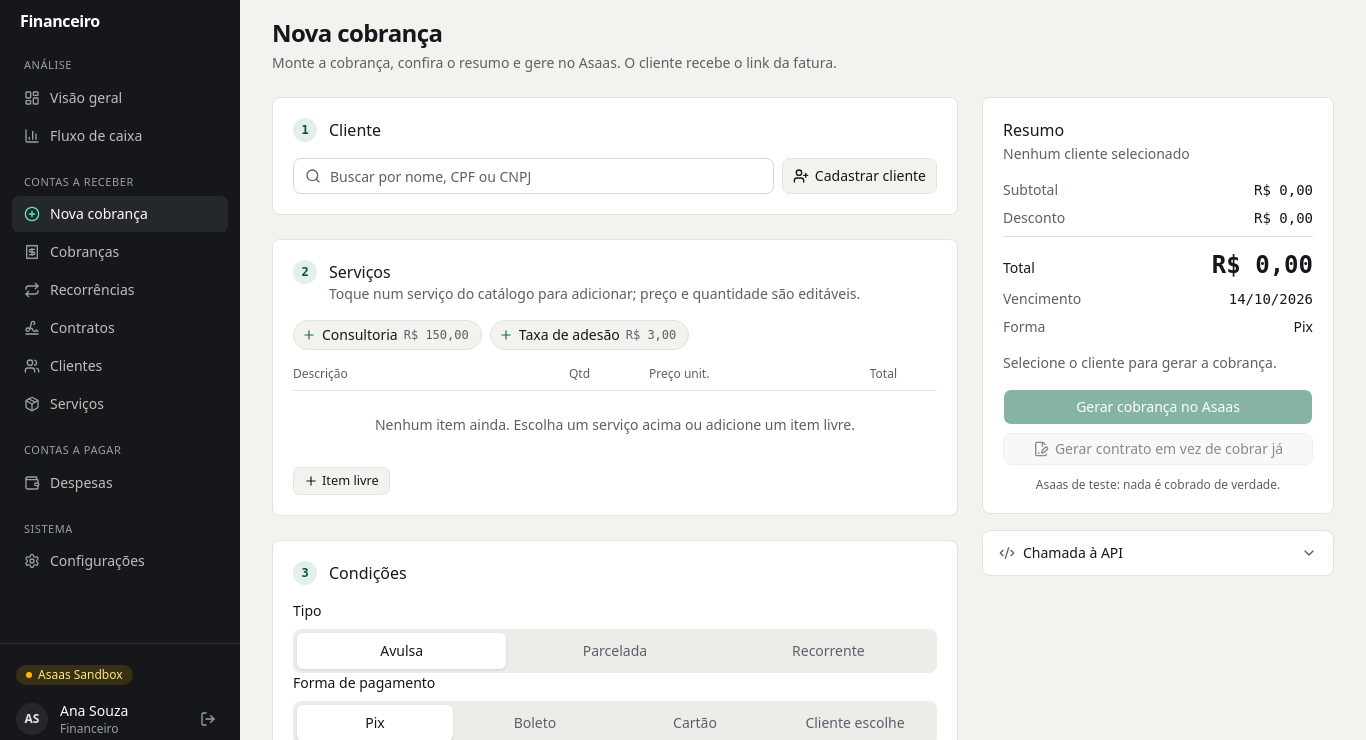
it: [COB-01][COB-02][COB-12] Nova cobrança › [COB-01.3][COB-01.5] padrões das Configurações; erro de plano aparece no resumo e bloqueia o botão
Click the dropdown named "Buscar cliente" at (533, 176), box [293,158,774,194]
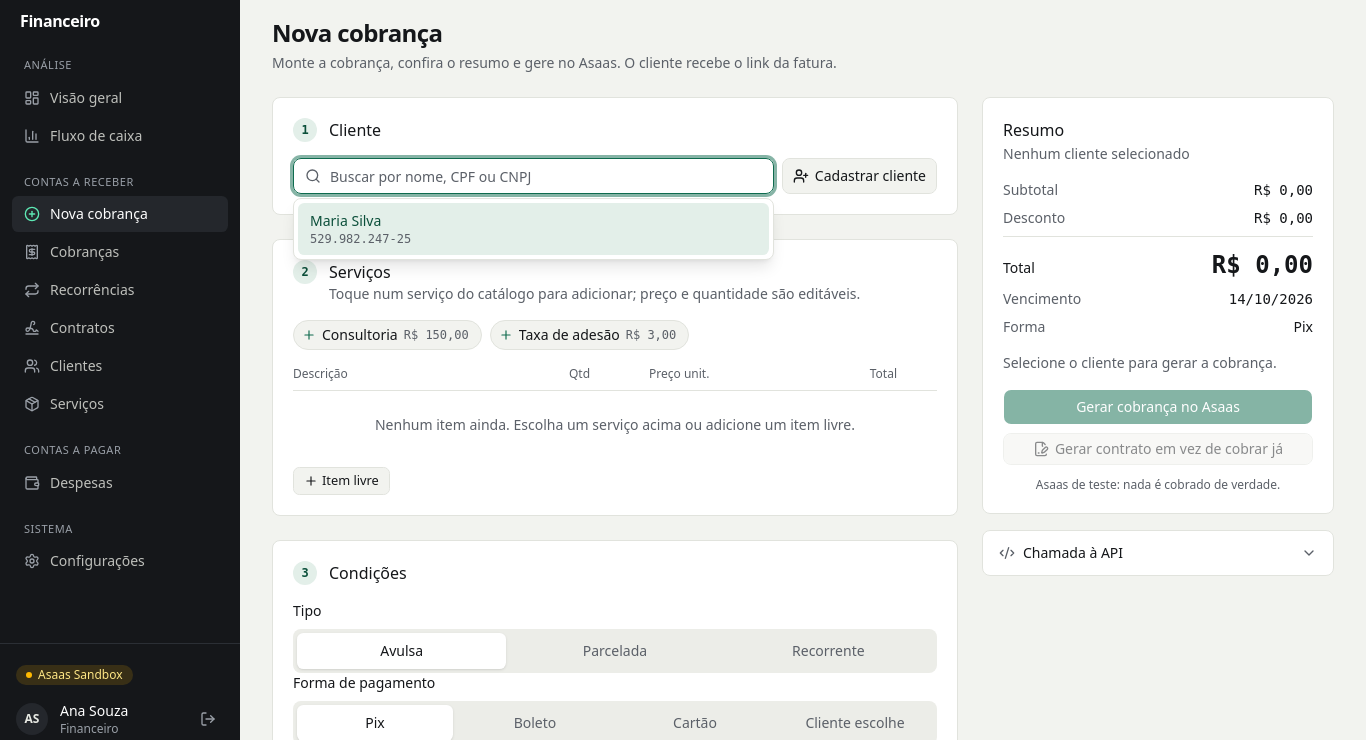
Click the option "Maria Silva 529.982.247-25" at (346, 220), box [298,203,769,255]
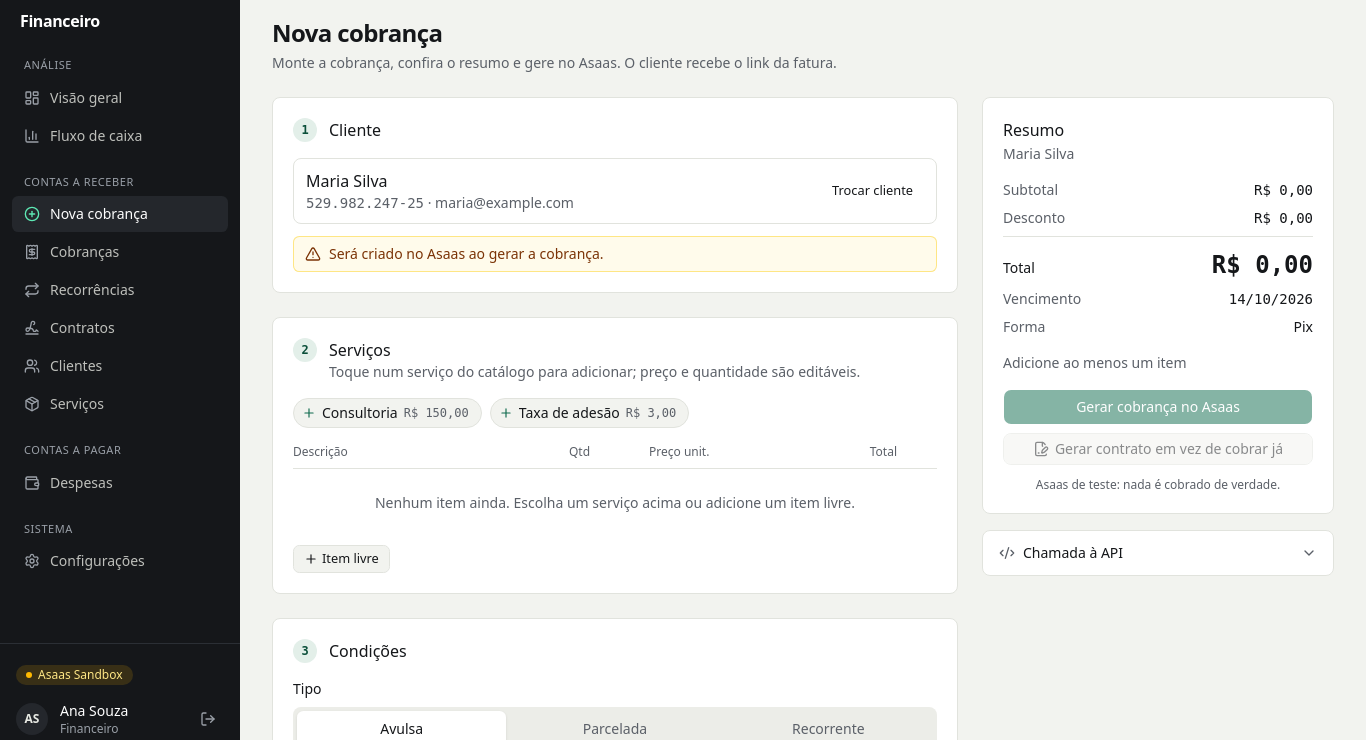
Check: the text "Será criado no Asaas ao gerar a cobrança." is shown, box [293,236,937,272]
Click the button "Taxa de adesão R$ 3,00" at (590, 413), box [490,398,689,428]
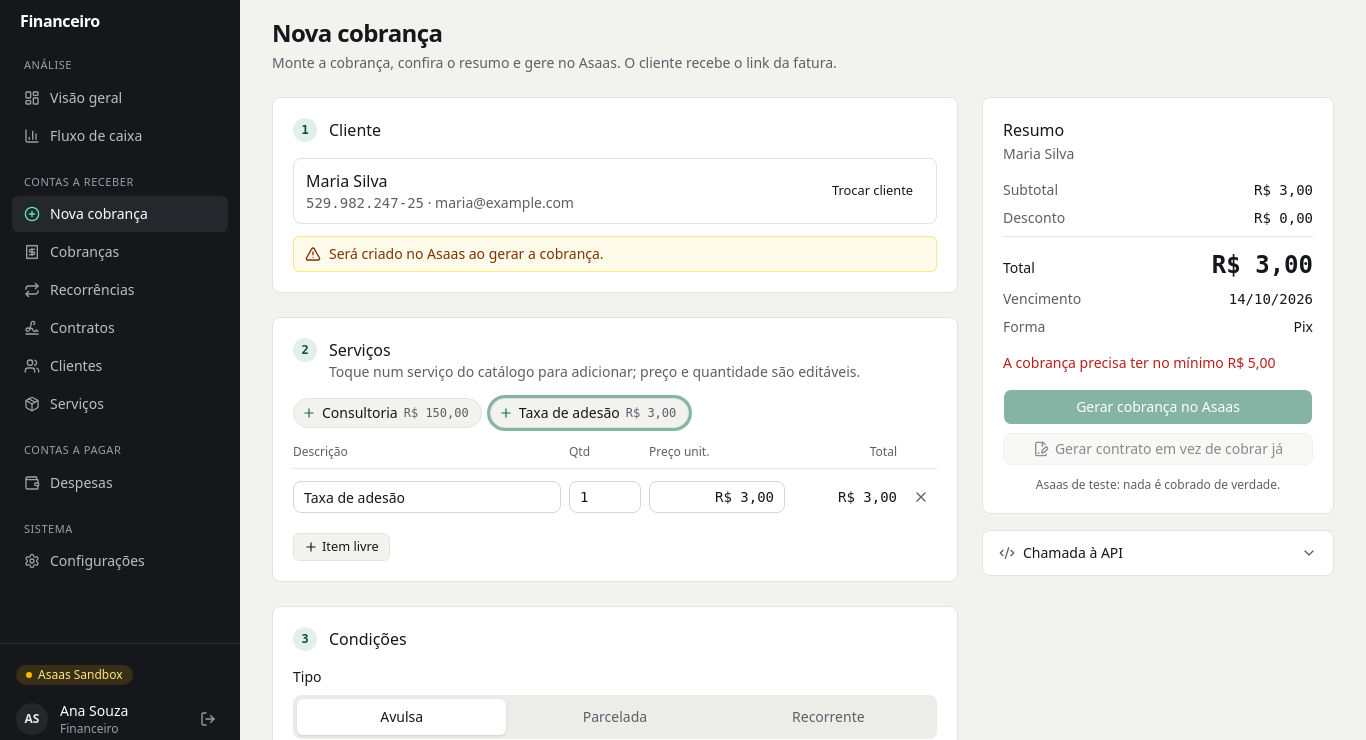
Check: the button "Gerar cobrança no Asaas" is disabled, box [1003,389,1313,425]
Check: the text "A cobrança precisa ter no mínimo R$ 5,00" is shown, box [1003,353,1313,373]
Click the button "Consultoria R$ 150,00" at (387, 413), box [293,398,482,428]
(page scrolled)
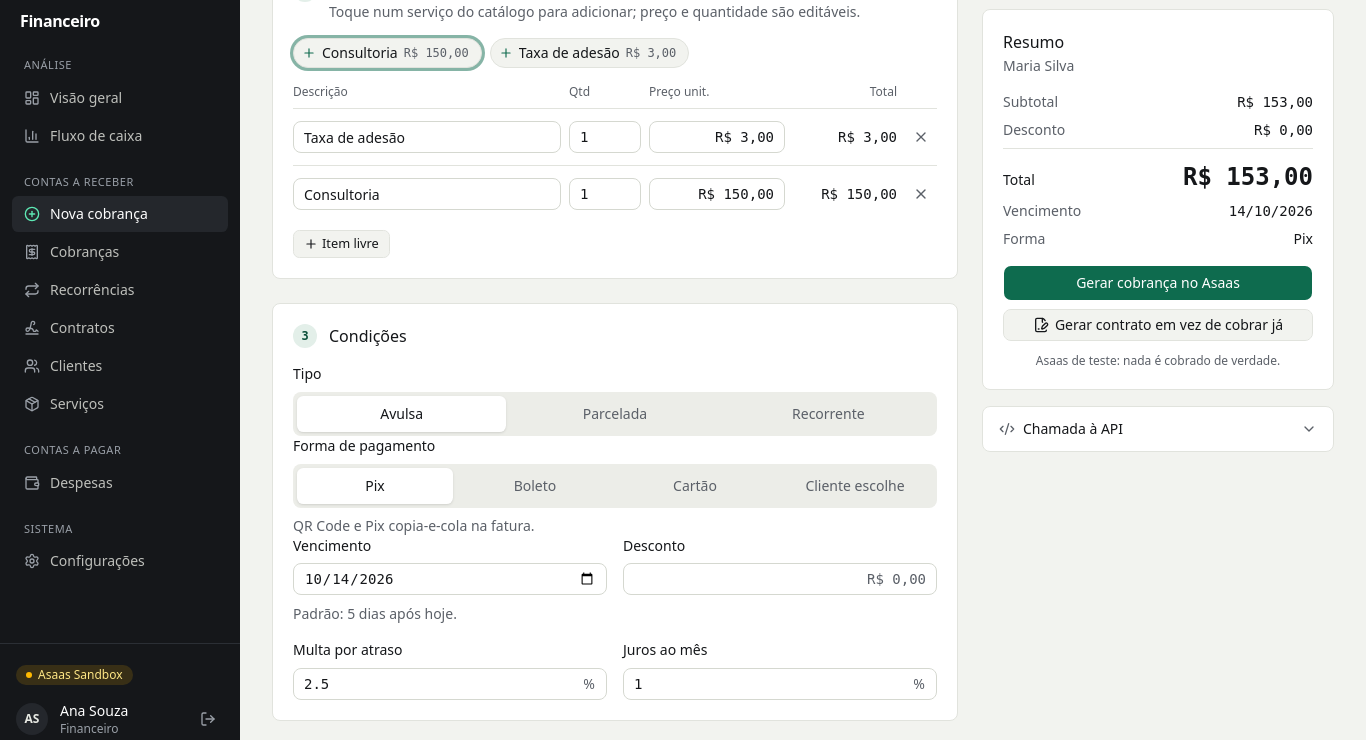
Check: the button "Gerar cobrança no Asaas" is enabled, box [1003,265,1313,301]
Type "99999" into the field labelled "Desconto" at (780, 579), box [623,563,937,595]
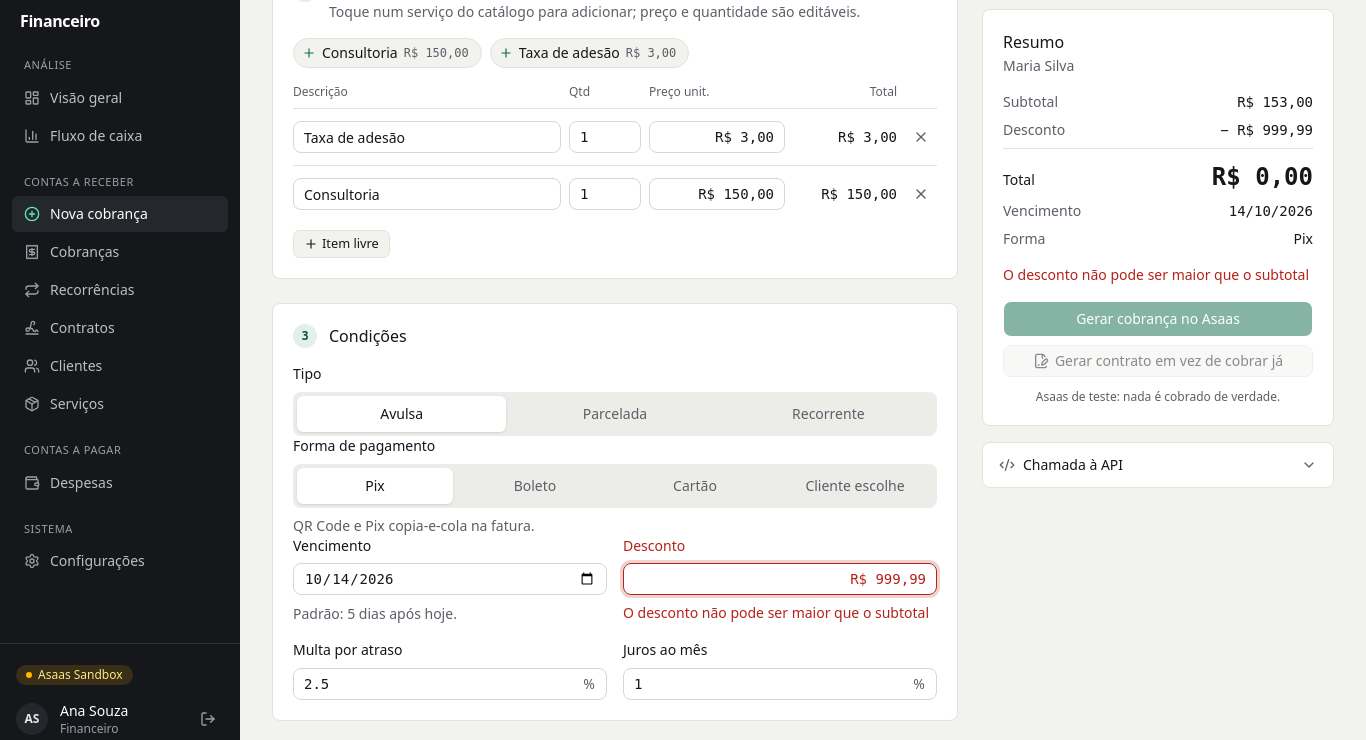
Check: the text "O desconto não pode ser maior que o subtotal" is shown, box [1003,265,1313,285]
Check: the button "Gerar cobrança no Asaas" is disabled, box [1003,301,1313,337]
